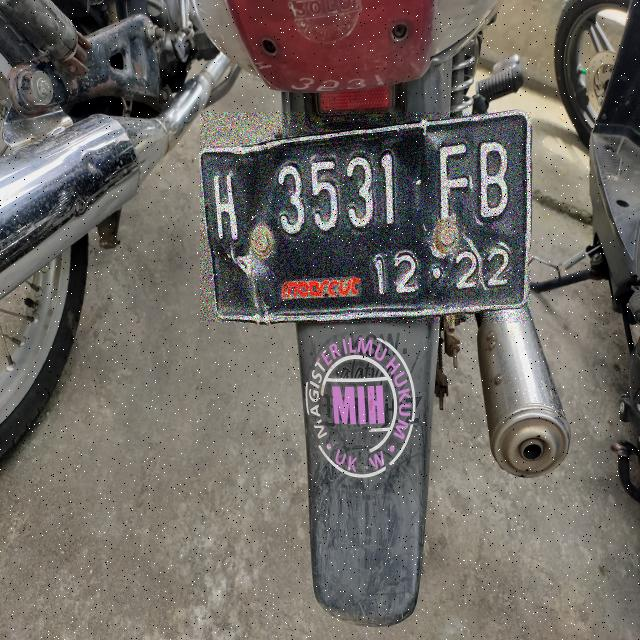plate: (201, 112, 530, 322)
